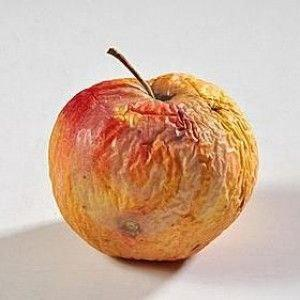Apple: (48, 73, 259, 264)
